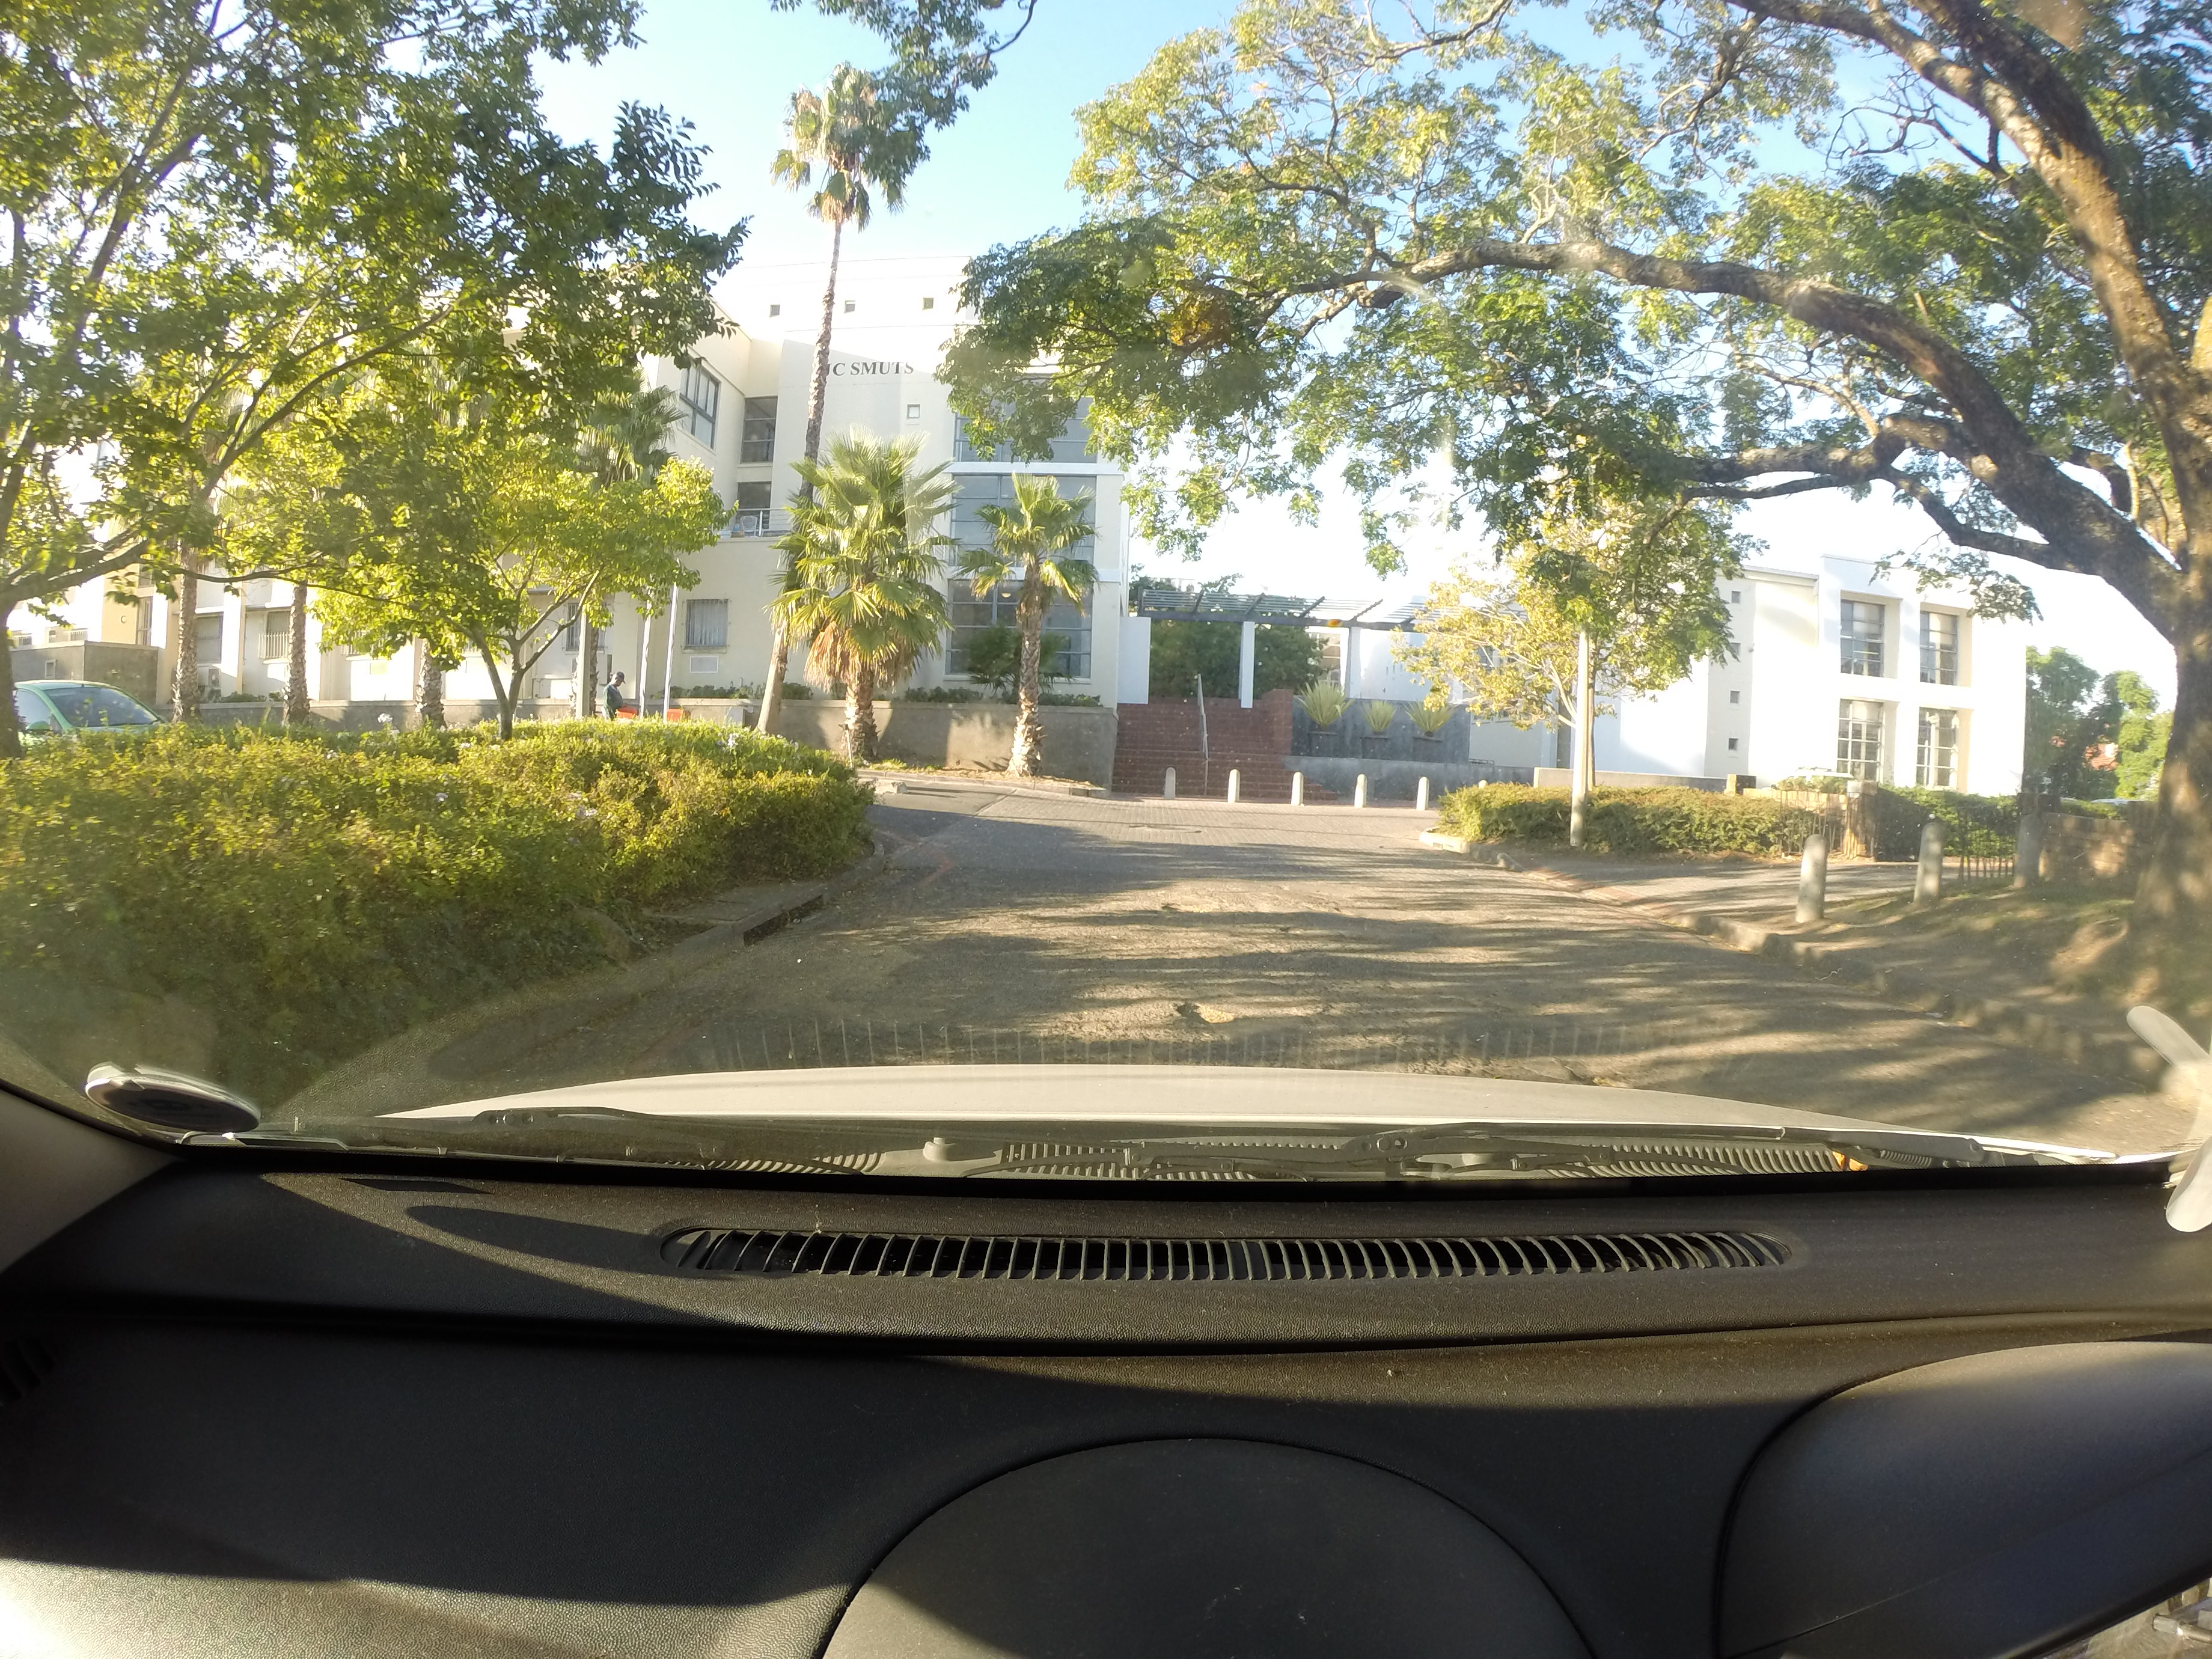pothole: (1163, 999, 1259, 1030), (1561, 1070, 1635, 1091)
